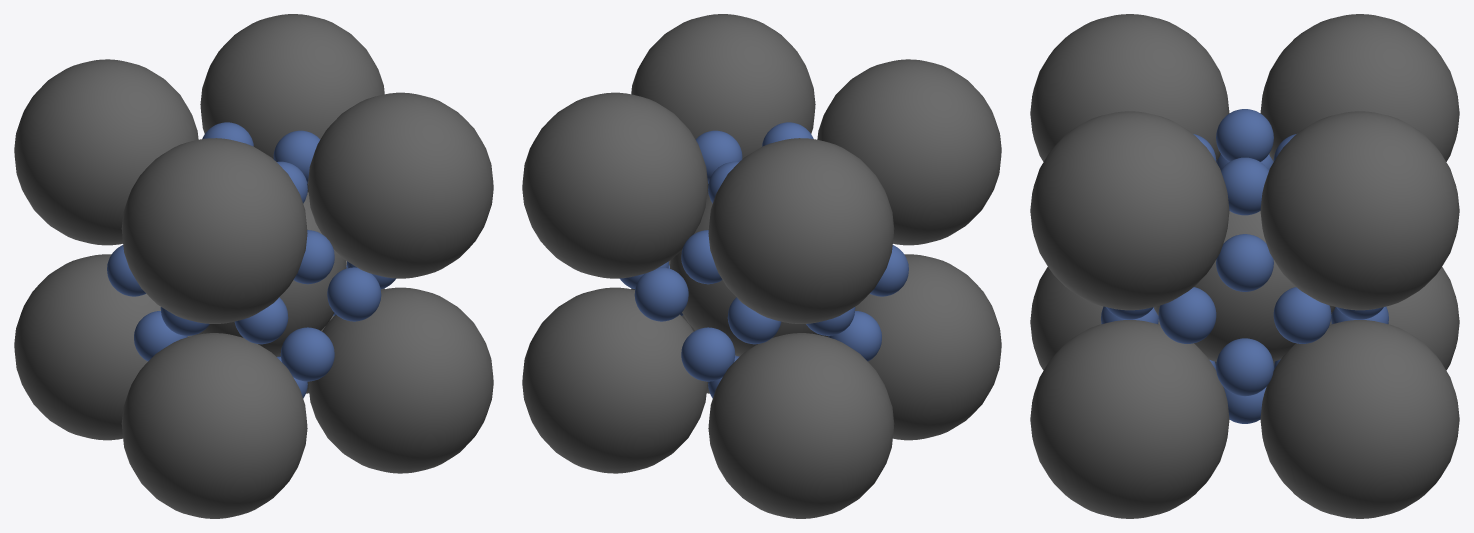
File: krz_TL.glb
3 renders of one model, left to right at view 1: azimuth 30°, elevation 25°; view 2: azimuth 150°, elevation 25°; view 3: azimuth 270°, elevation 25°, orthographic. The views are drawn at different scales.
Visible parts, largest first — view 1: Sphere.006, Sphere.011; view 2: Sphere.006, Sphere.011; view 3: Sphere.006, Sphere.011.
Boxes of the visible parts, bbox=[...] form: Sphere.006: bbox=[14, 14, 493, 518]; Sphere.011: bbox=[107, 122, 396, 398]; Sphere.006: bbox=[522, 14, 1001, 518]; Sphere.011: bbox=[619, 122, 908, 398]; Sphere.006: bbox=[1030, 14, 1459, 518]; Sphere.011: bbox=[1101, 109, 1388, 423].
Bounding box in the file's own units: 4.31 × 4.31 × 4.31.
